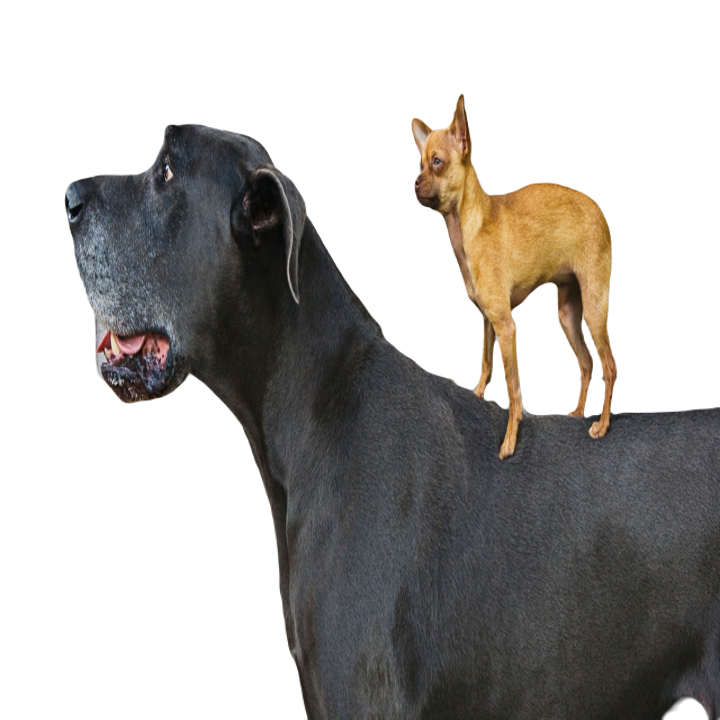Dog: (39, 118, 719, 719), (404, 103, 621, 414)
